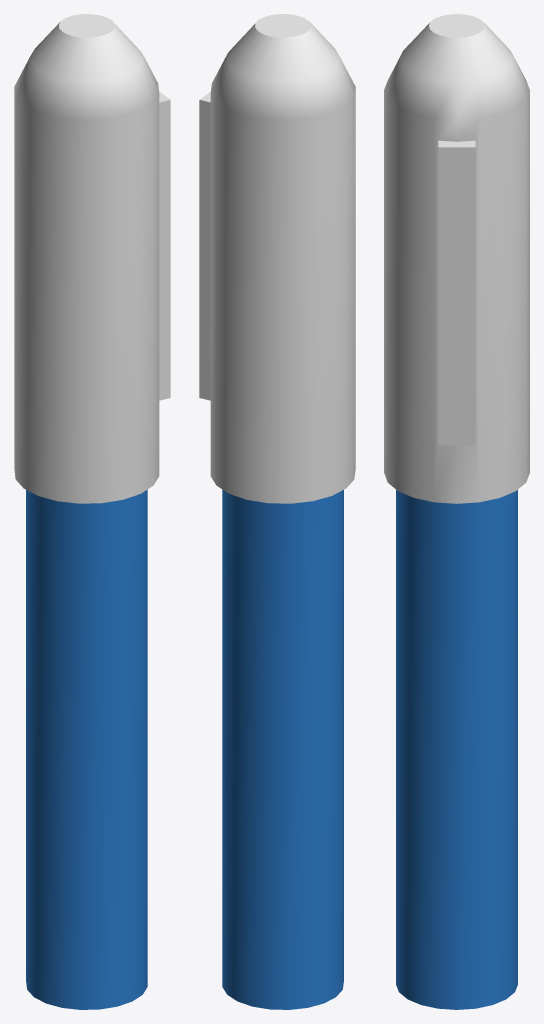
File: marker.glb
The picture shows the model from 3 angles, left to right: view 1: azimuth 30°, elevation 25°; view 2: azimuth 150°, elevation 25°; view 3: azimuth 270°, elevation 25°; orthographic projection.
Parts seen in each view (by area): view 1: marker; view 2: marker; view 3: marker.
Boxes of the visible parts, x1,y1,x2,y2 form: marker: [14, 14, 170, 1009]; marker: [199, 14, 355, 1009]; marker: [384, 14, 529, 1009].
Bounding box in the file's own units: 0.0135 × 0.09 × 0.0124.
